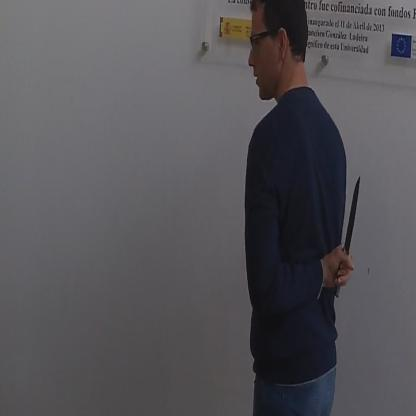knife: (333, 168, 364, 299)
